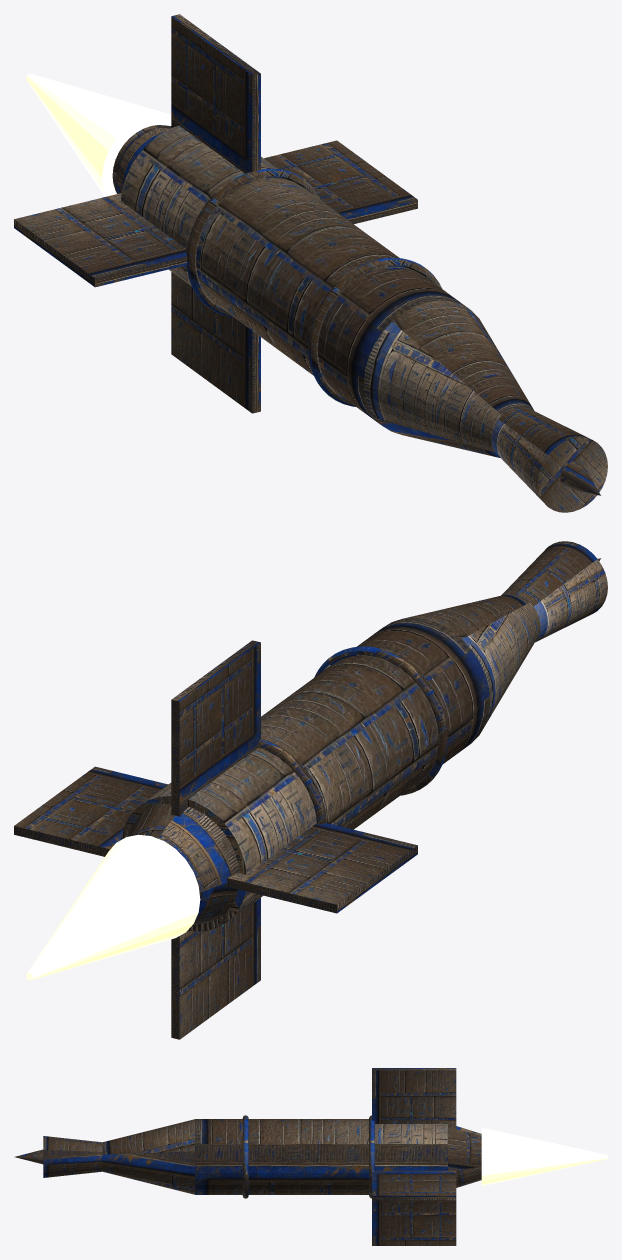
File: sky_gir.glb
3 renders of one model, top to bottom at view 1: azimuth 30°, elevation 25°; view 2: azimuth 150°, elevation 25°; view 3: azimuth 270°, elevation 25°, orthographic. The views are drawn at different scales.
Parts seen in each view (by area): view 1: body, nose, fin_1, fin_2, capsule, fin_3, flame, fin_0, band_a, band_b, nozzle, capsule_tip; view 2: body, flame, fin_1, fin_2, fin_3, fin_0, nose, capsule, nozzle, band_a, band_b; view 3: body, nose, fin_1, flame, fin_3, fin_0, capsule, nozzle, band_a, band_b.
Part boxes in pixels (left/top/right/bottom): body: left=121, top=125, right=468, bottom=424; nose: left=363, top=300, right=534, bottom=457; fin_1: left=171, top=14, right=260, bottom=173; fin_2: left=14, top=193, right=187, bottom=287; capsule: left=491, top=407, right=607, bottom=512; fin_3: left=171, top=272, right=260, bottom=413; flame: left=26, top=73, right=171, bottom=196; fin_0: left=264, top=140, right=417, bottom=223; band_a: left=308, top=257, right=442, bottom=406; band_b: left=186, top=168, right=320, bottom=317; nozzle: left=112, top=125, right=171, bottom=193; capsule_tip: left=560, top=461, right=600, bottom=495; body: left=121, top=618, right=489, bottom=931; flame: left=26, top=834, right=200, bottom=980; fin_1: left=171, top=640, right=260, bottom=816; fin_2: left=227, top=823, right=417, bottom=913; fin_3: left=171, top=898, right=260, bottom=1039; fin_0: left=14, top=766, right=168, bottom=856; nose: left=404, top=594, right=540, bottom=726; capsule: left=501, top=541, right=607, bottom=642; nozzle: left=128, top=803, right=239, bottom=924; band_a: left=314, top=646, right=448, bottom=795; band_b: left=258, top=738, right=326, bottom=823; body: left=195, top=1119, right=447, bottom=1194; nose: left=102, top=1119, right=194, bottom=1194; fin_1: left=372, top=1068, right=456, bottom=1129; flame: left=481, top=1127, right=607, bottom=1186; fin_3: left=372, top=1200, right=456, bottom=1245; fin_0: left=372, top=1168, right=456, bottom=1200; capsule: left=43, top=1136, right=102, bottom=1177; nozzle: left=448, top=1126, right=481, bottom=1187; band_a: left=242, top=1115, right=248, bottom=1198; band_b: left=369, top=1115, right=374, bottom=1198.
Size of the model in its own units: 4.6 by 4.6 by 14.1.
2 materials, 1 textured.
